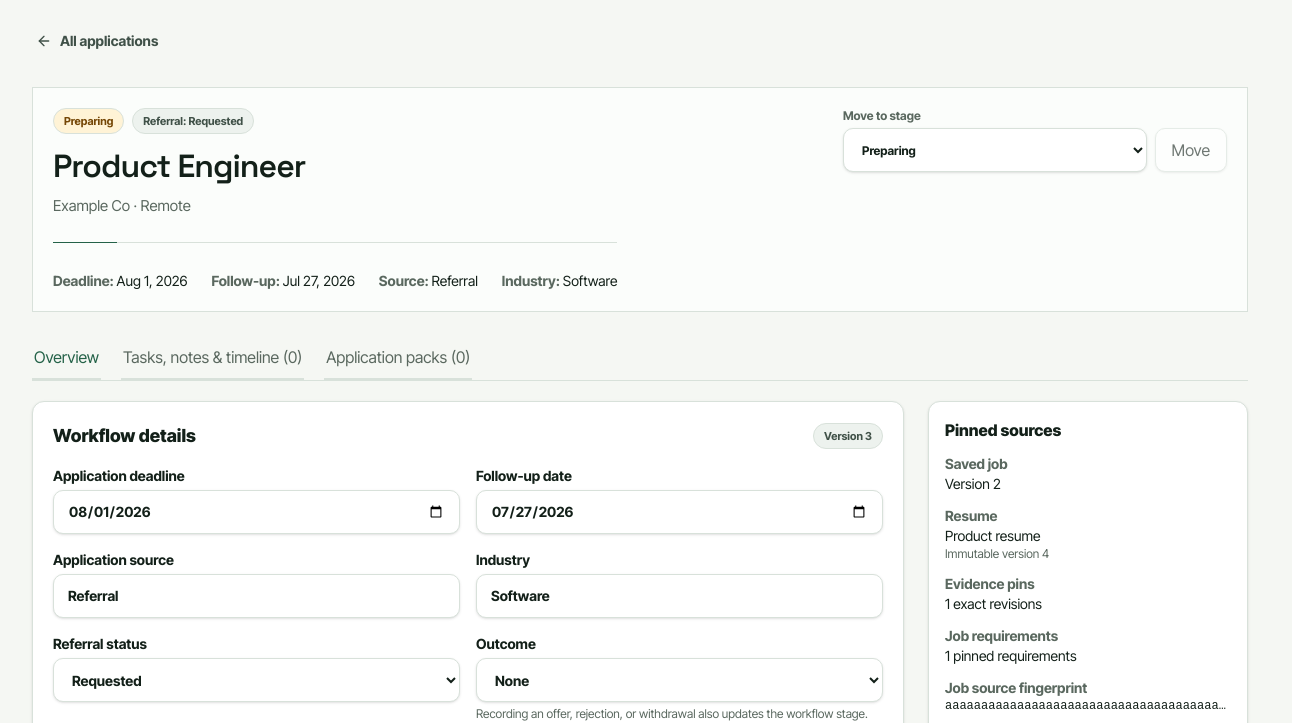
it: Application detail workflow › adds a task and generates only explicitly selected draft documents
Check: the heading "Product Engineer" is shown, box x1=53 y1=146 x2=305 y2=186
Step 1. Click the tab "Tasks, notes & timeline (0)" → (213, 358), box x1=121 y1=336 x2=304 y2=380
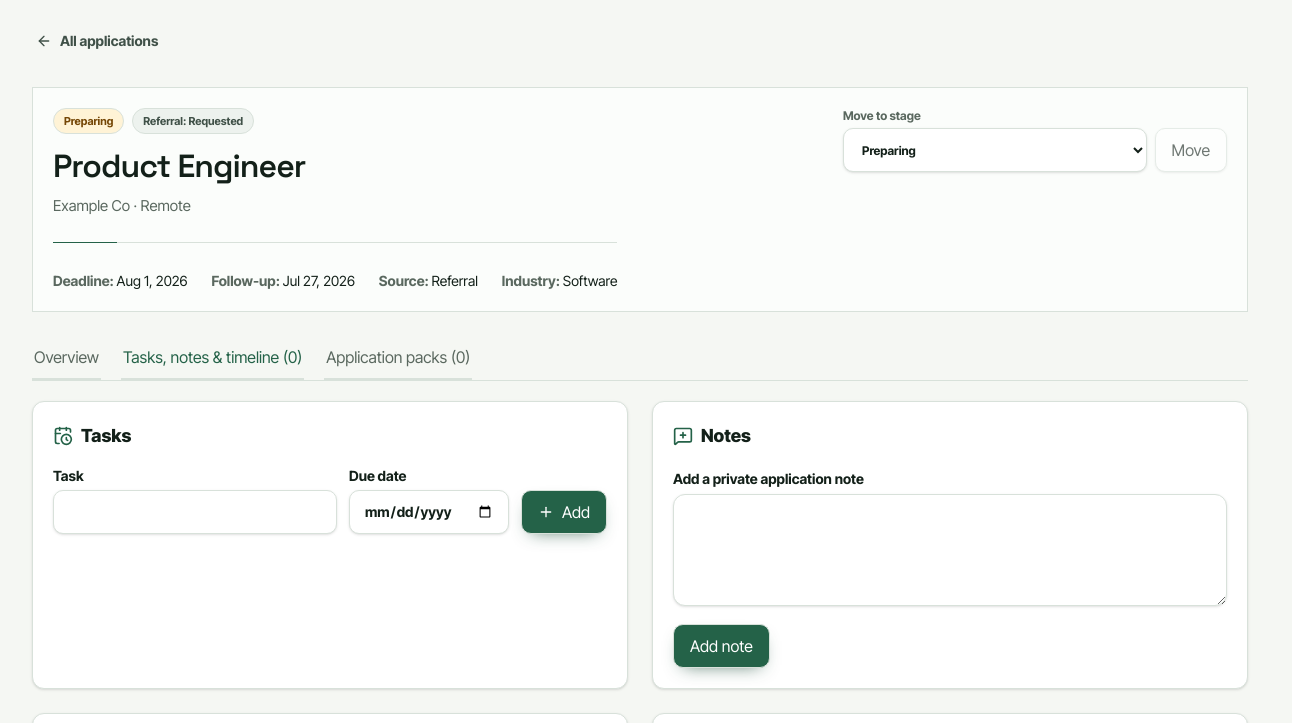
Step 2. Type "Prepare examples" into the field labelled "Task" → (195, 512), box x1=53 y1=490 x2=337 y2=534
Step 3. Type "2026-07-30" into the date field labelled "Due date" → (429, 512), box x1=349 y1=490 x2=509 y2=534
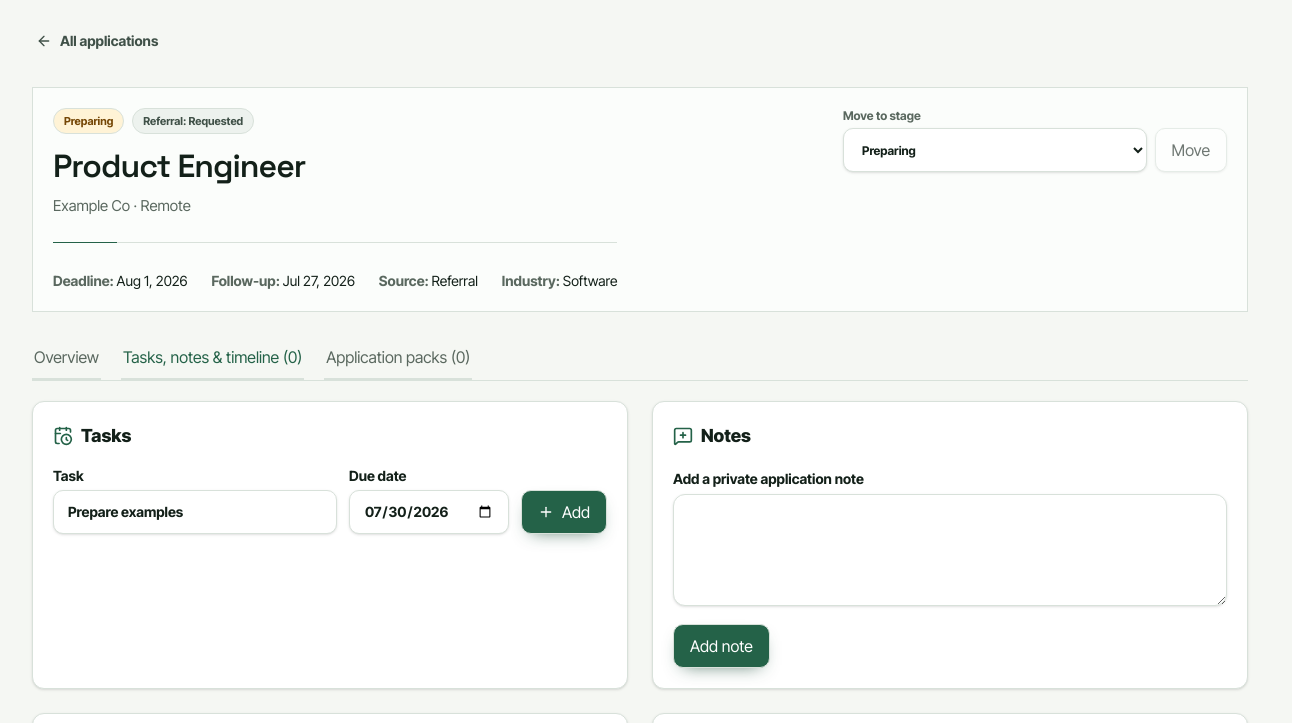
Step 4. Click the button "Add" → (564, 512), box x1=521 y1=490 x2=607 y2=534
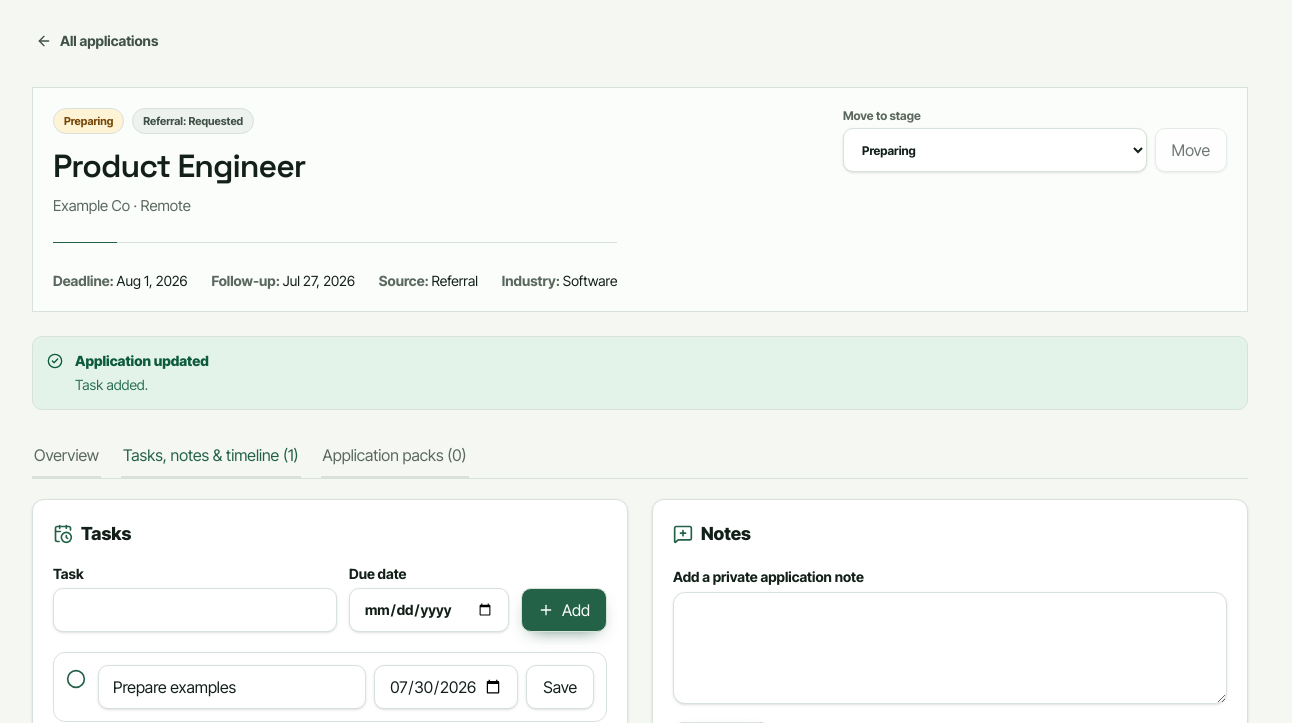
Check: the field showing "Prepare examples" is shown, box x1=53 y1=588 x2=337 y2=632
Check: the tab "Tasks, notes & timeline (1)" is shown, box x1=121 y1=434 x2=301 y2=478
Check: the element named "Edit task: Prepare examples" is shown, box x1=98 y1=665 x2=594 y2=709
Step 5. Click the button named "Complete Prepare examples" → (76, 679), box x1=66 y1=669 x2=86 y2=689
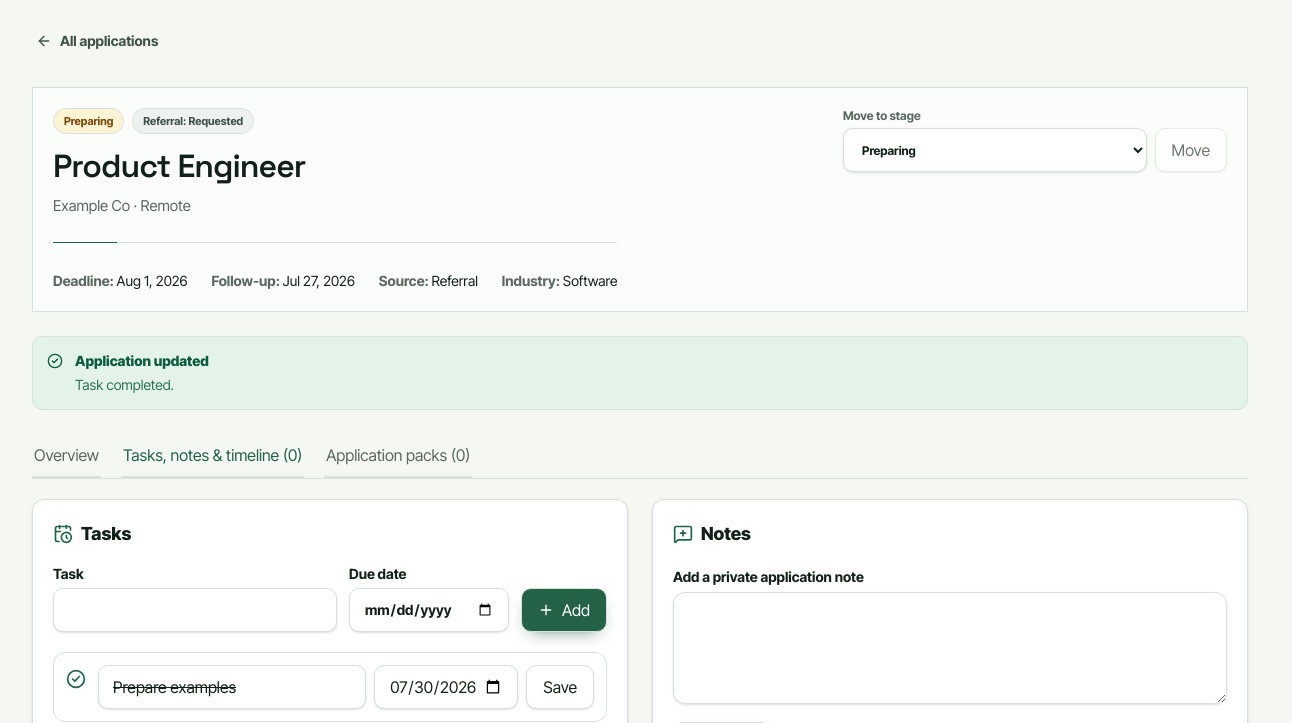
Check: the tab "Tasks, notes & timeline (0)" is shown, box x1=121 y1=434 x2=304 y2=478
Step 6. Click the tab "Application packs (0)" → (398, 456), box x1=324 y1=434 x2=472 y2=478
(page scrolled)
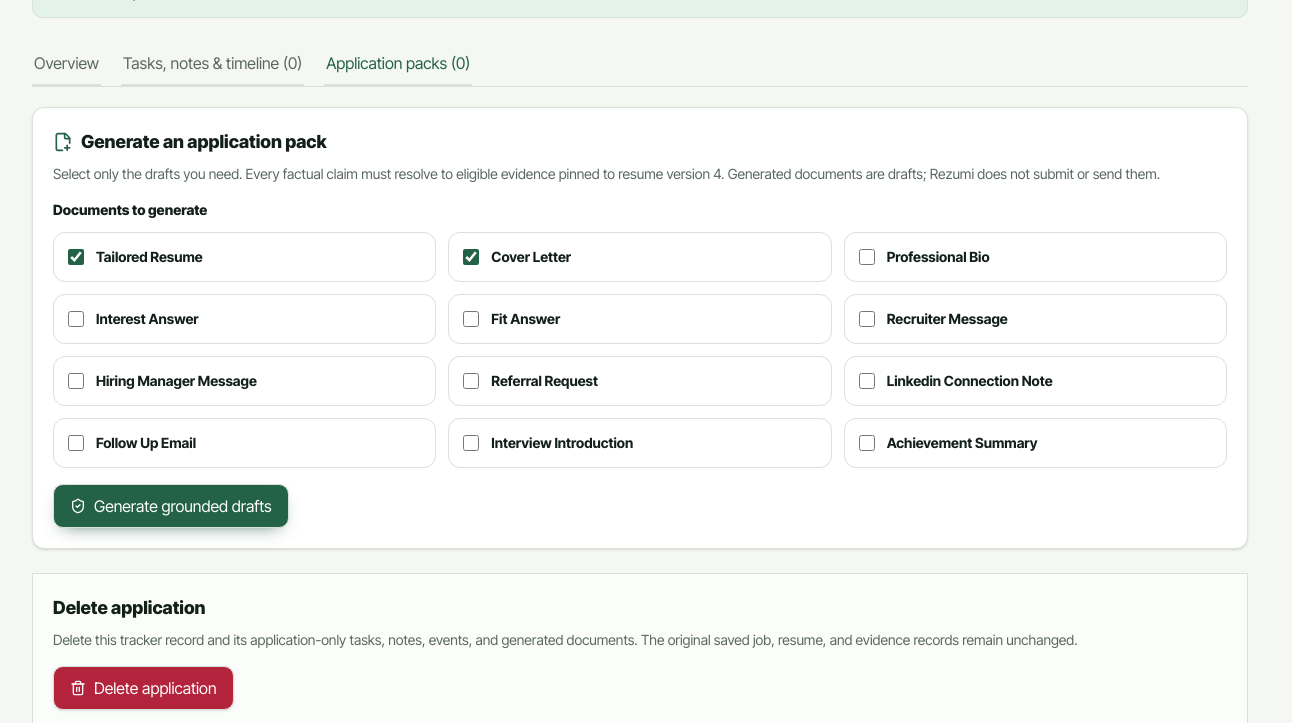
Step 7. Click the button "Generate grounded drafts" → (171, 506), box x1=53 y1=484 x2=289 y2=528
(page scrolled)
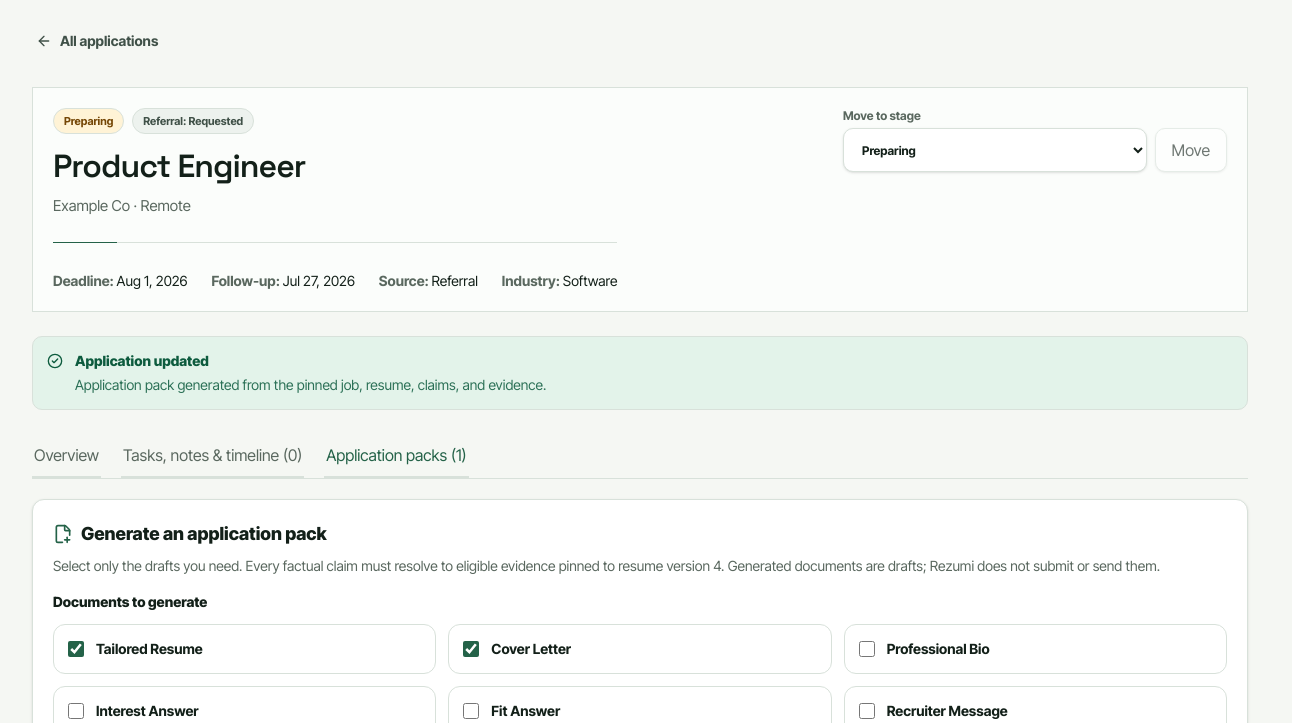
Check: the tab "Application packs (1)" is shown, box x1=324 y1=434 x2=469 y2=478
Check: the text "Application pack generated from the pinned job" is shown, box x1=75 y1=376 x2=546 y2=393
